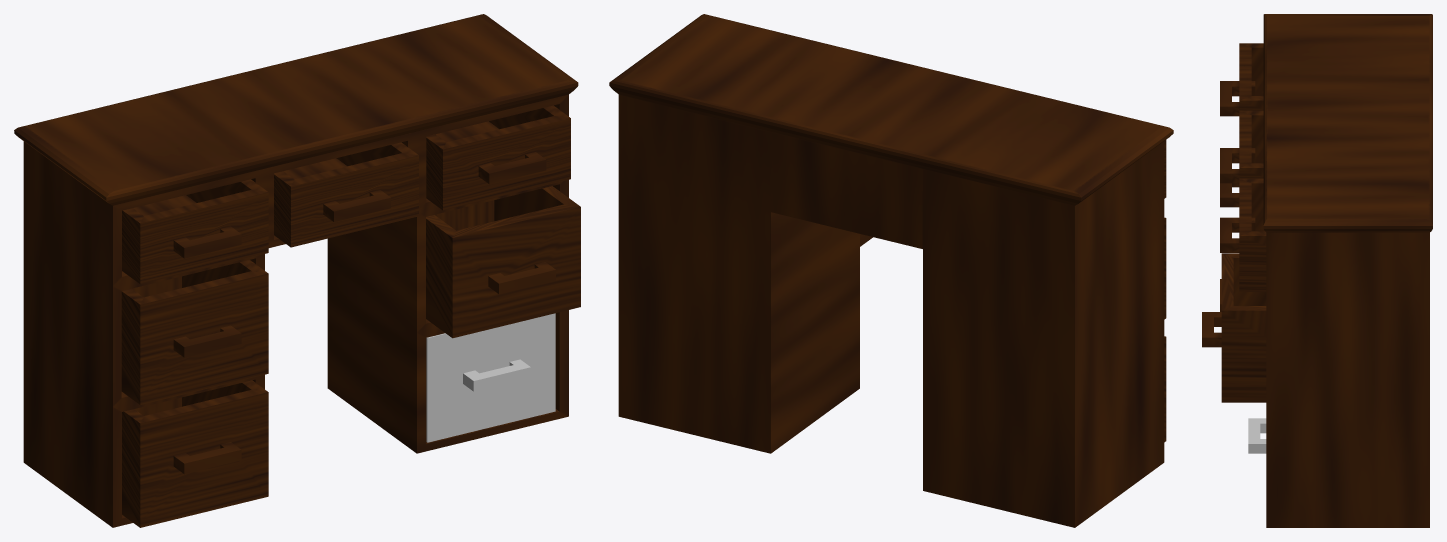
The model's file is Dresser_Drawer.fbx.
The picture shows the model from 3 angles, left to right: view 1: azimuth 30°, elevation 25°; view 2: azimuth 150°, elevation 25°; view 3: azimuth 270°, elevation 25°; orthographic projection. The views are drawn at different scales.
Visible parts, largest first — view 1: Dresser Drawer, Drawer 2, Drawer 7, Drawer 6, Drawer 1, Drawer 5, Drawer 4, Drawer 3; view 2: Dresser Drawer; view 3: Dresser Drawer, Drawer 2, Drawer 3, Drawer 4, Drawer 5, Drawer 1, Drawer 6.
Boxes of the visible parts, x1,y1,x2,y2 form: Dresser Drawer: (14,14,578,527); Drawer 2: (426,186,580,338); Drawer 7: (122,380,268,527); Drawer 6: (121,260,268,404); Drawer 1: (426,313,555,442); Drawer 5: (122,179,268,284); Drawer 4: (274,142,418,247); Drawer 3: (426,105,570,210); Dresser Drawer: (609,14,1173,527); Dresser Drawer: (1263,14,1432,527); Drawer 2: (1202,253,1266,402); Drawer 3: (1220,178,1266,291); Drawer 4: (1220,110,1263,183); Drawer 5: (1220,43,1263,116); Drawer 1: (1248,418,1266,453); Drawer 6: (1220,183,1239,207).
Bounding box in the file's own units: 611 × 416 × 282.
